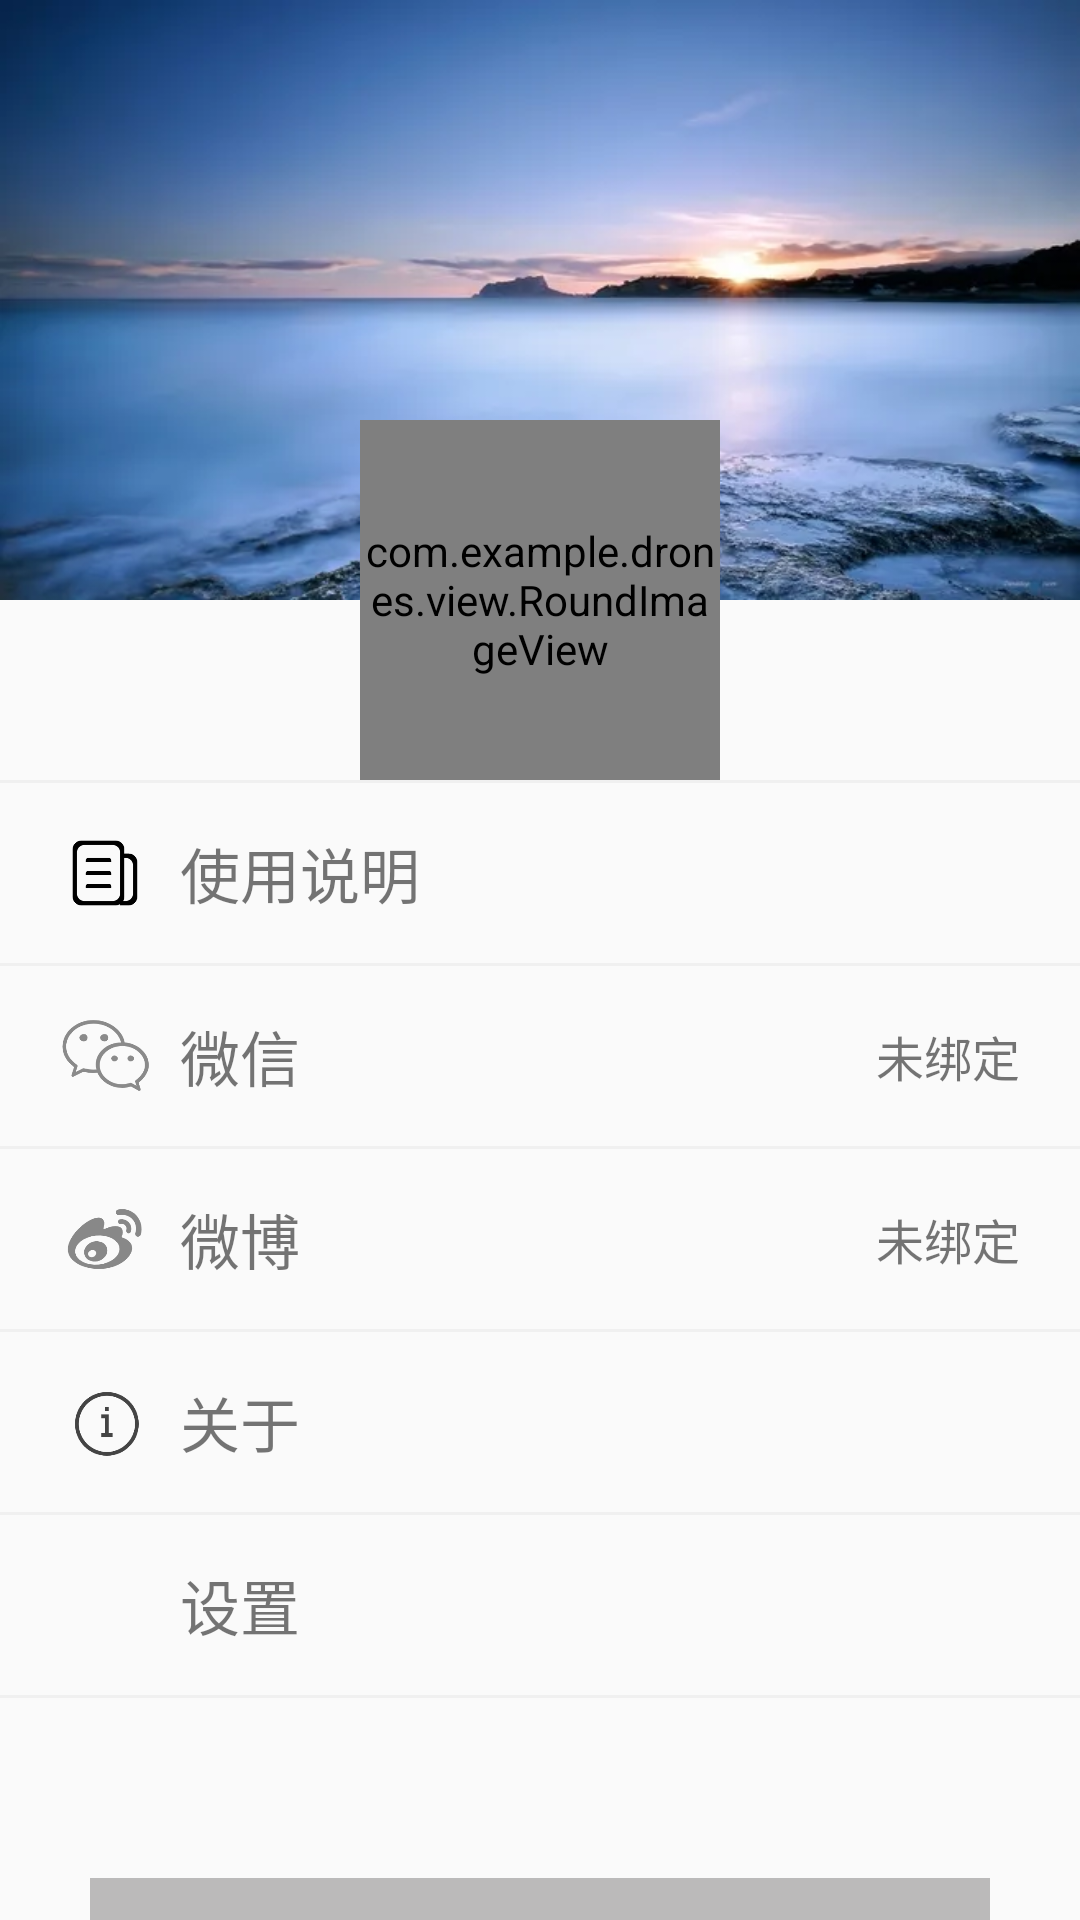

Icon click points for this 1080w x 1920h phone screenshot, format point (x, y):
mine about: point (107, 1424)
mine desc: point (105, 873)
